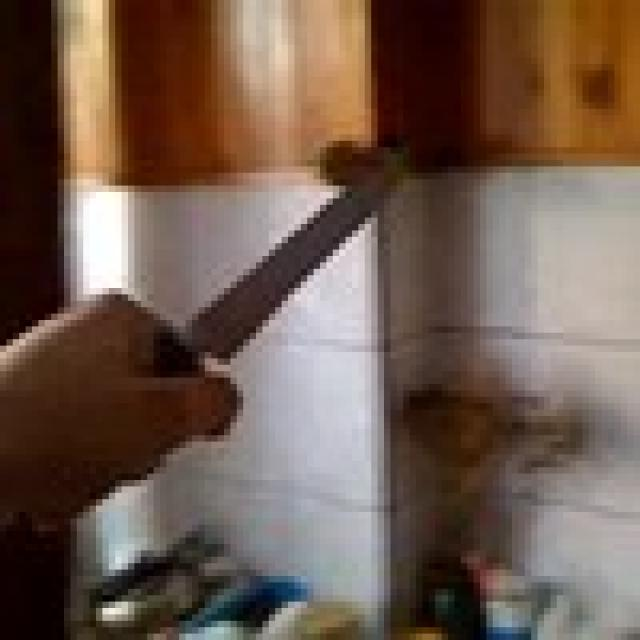Knife: (153, 141, 410, 390)
